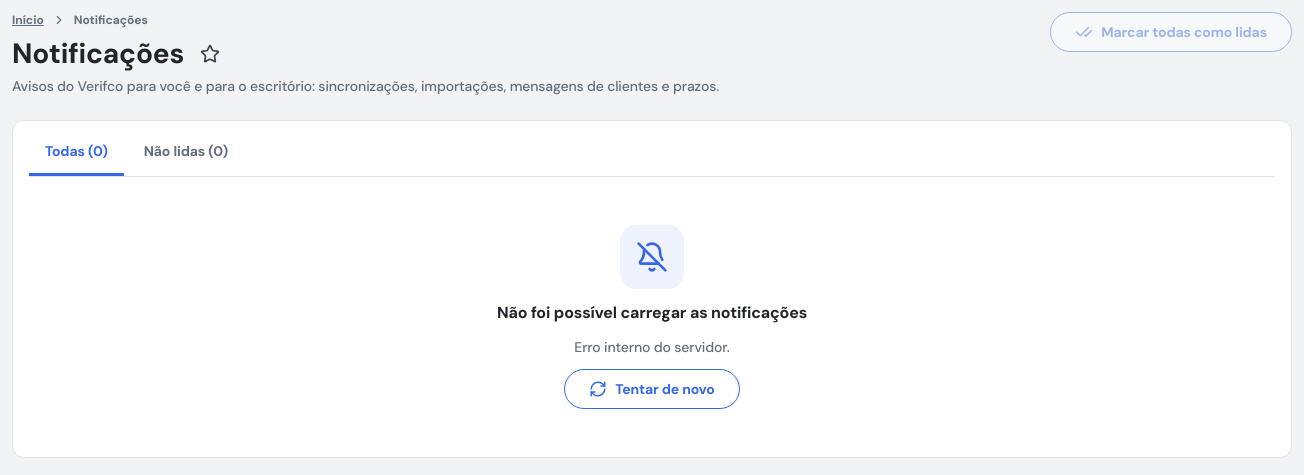
Scenario: página de notificações › erro ao carregar: explica e "Tentar de novo" recarrega
The width and height of the screenshot is (1304, 475).
Check: the text "Não foi possível carregar as notificações" is shown, box [497,301,807,325]
Check: the text "Erro interno do servidor." is shown, box [574,337,730,357]
Click the button "Tentar de novo": x=652, y=389 [564,369,740,409]
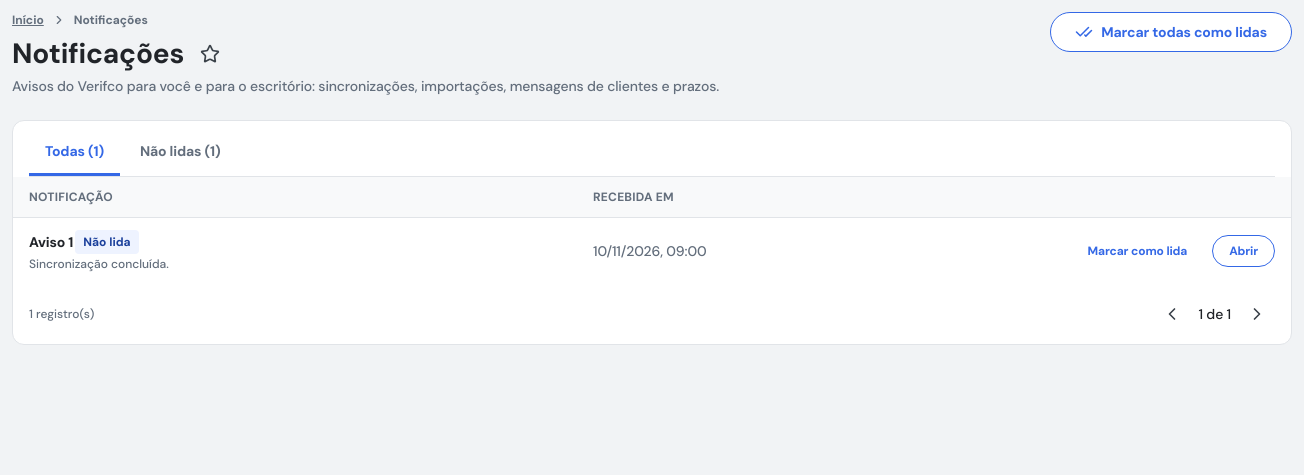
Check: the text "Aviso 1" is shown, box [29,232,73,252]
